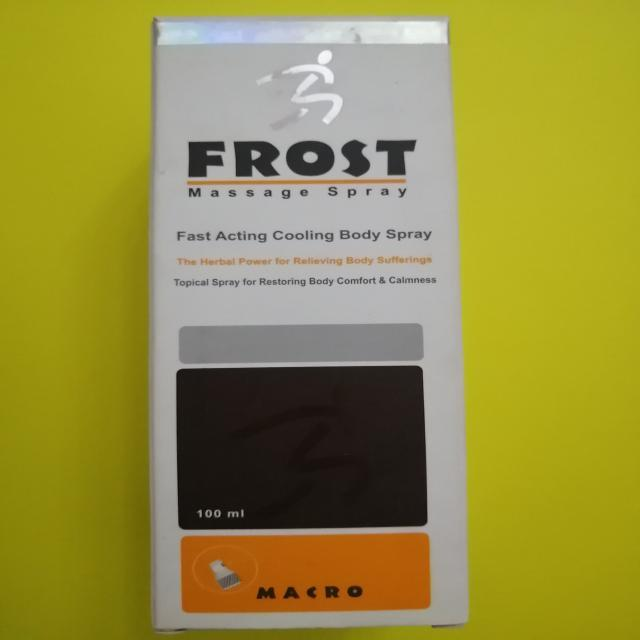Medicine Name: (173, 129, 423, 182)
